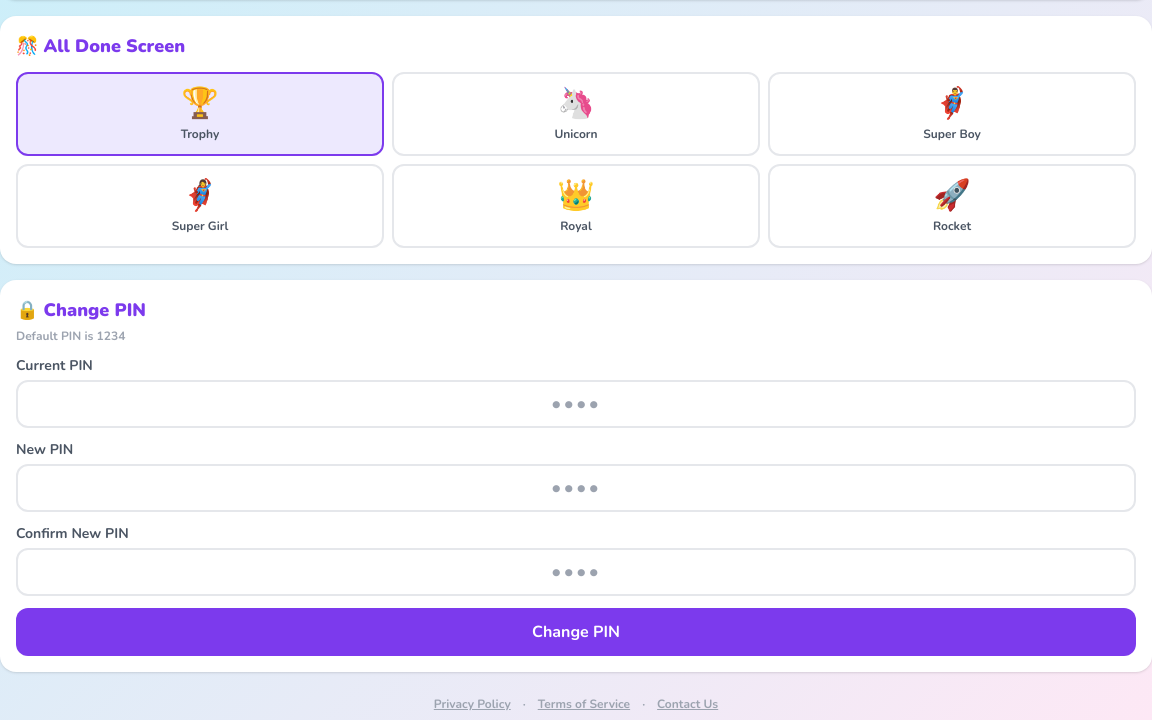
Scenario: Settings — PIN change › shows error when current PIN is wrong
(page scrolled)
Type "9999" into the password field with placeholder "••••" below "Current PIN" at (576, 404), box [16,380,1136,428]
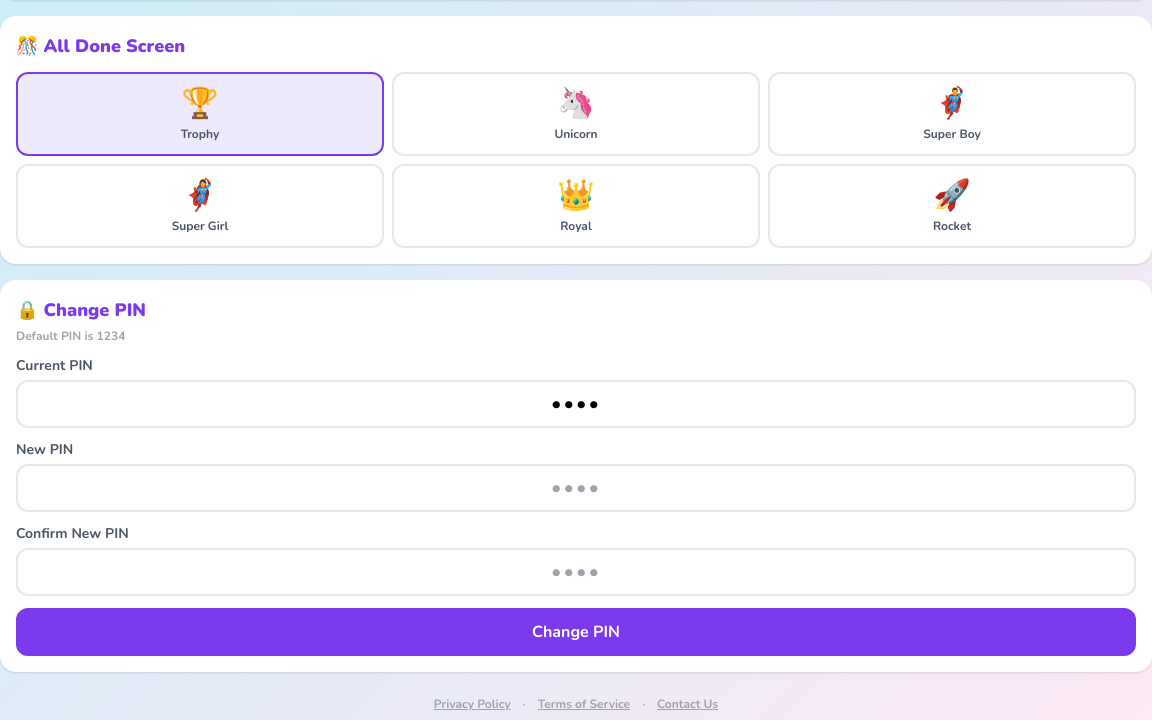
Click the button "Change PIN" at (576, 632), box [16,608,1136,656]
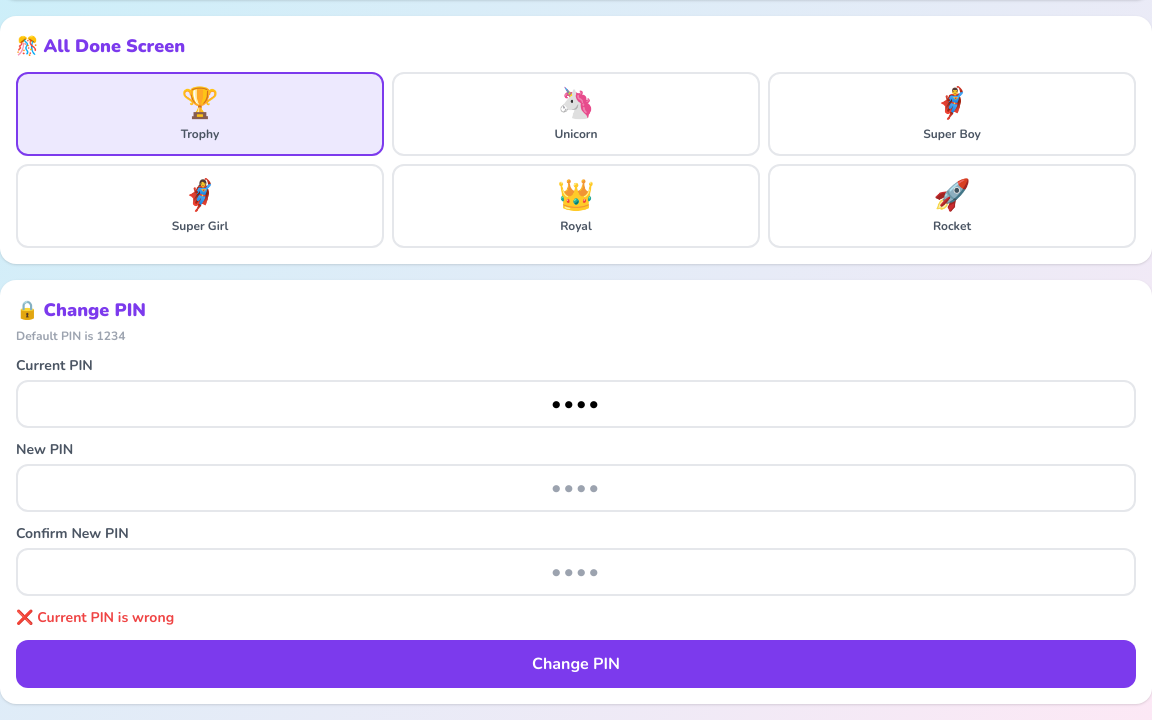
expect the text "❌ Current PIN is wrong" is shown: met, box [16,608,174,627]
